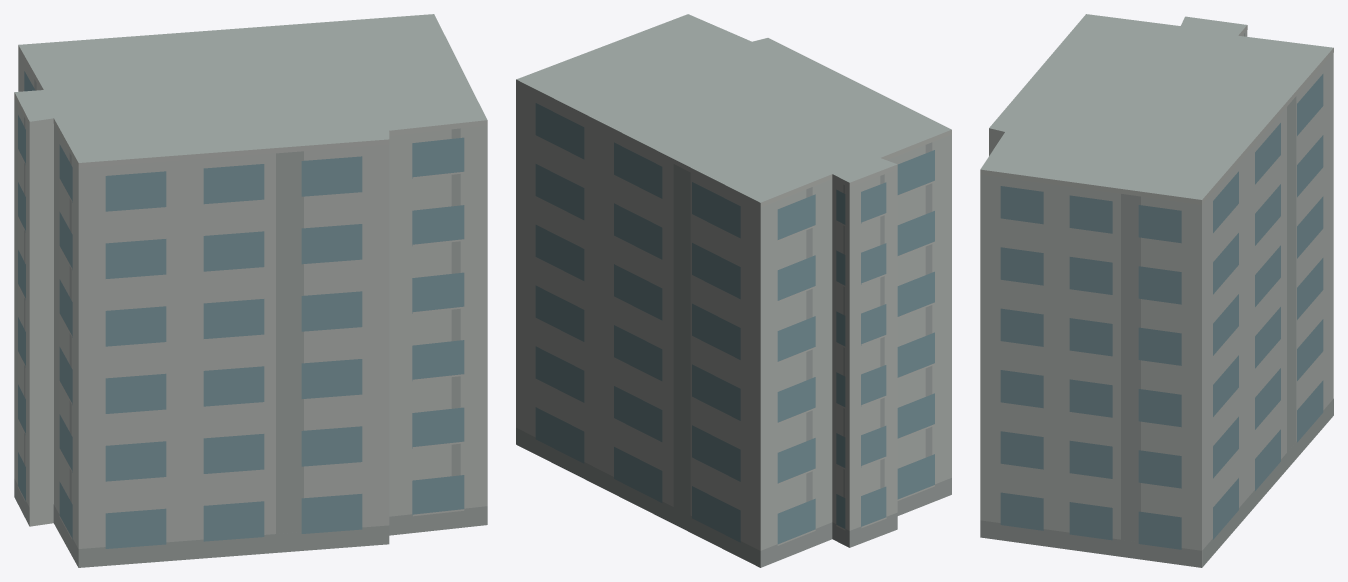
Rendered from survey-upis-32508223.glb.
The picture shows the model from 3 angles, left to right: view 1: azimuth 30°, elevation 25°; view 2: azimuth 150°, elevation 25°; view 3: azimuth 270°, elevation 25°; orthographic projection. The views are drawn at different scales.
Visible parts, largest first — view 1: survey-upis-32508223.tmp; view 2: survey-upis-32508223.tmp; view 3: survey-upis-32508223.tmp.
Part boxes in pixels (bbox=[...]): survey-upis-32508223.tmp: bbox=[14, 14, 487, 567]; survey-upis-32508223.tmp: bbox=[516, 14, 951, 567]; survey-upis-32508223.tmp: bbox=[980, 14, 1333, 567].
Size of the model in its own units: 19.85 by 18.3 by 15.94.
